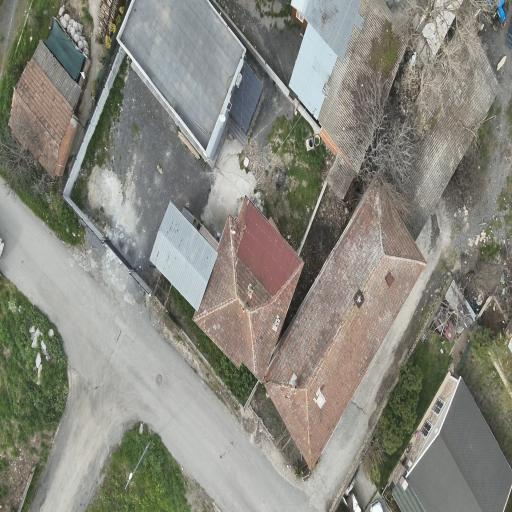car: (370, 501, 383, 511), (0, 238, 4, 256)
